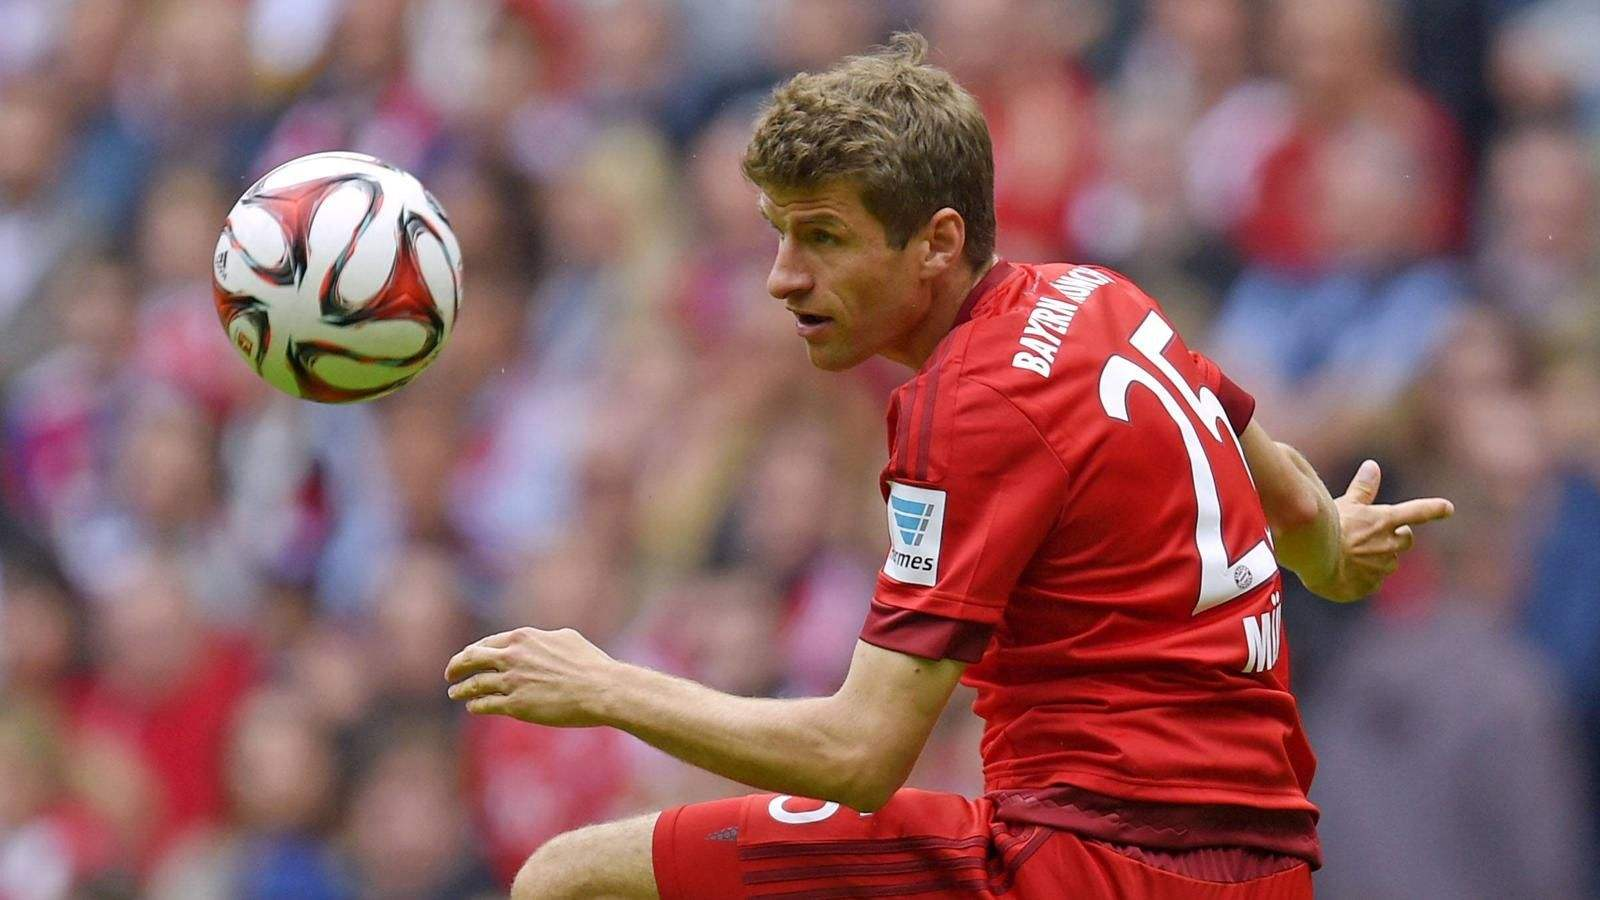ball: (214, 152, 468, 405)
